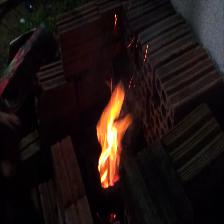fire: (81, 69, 145, 202)
